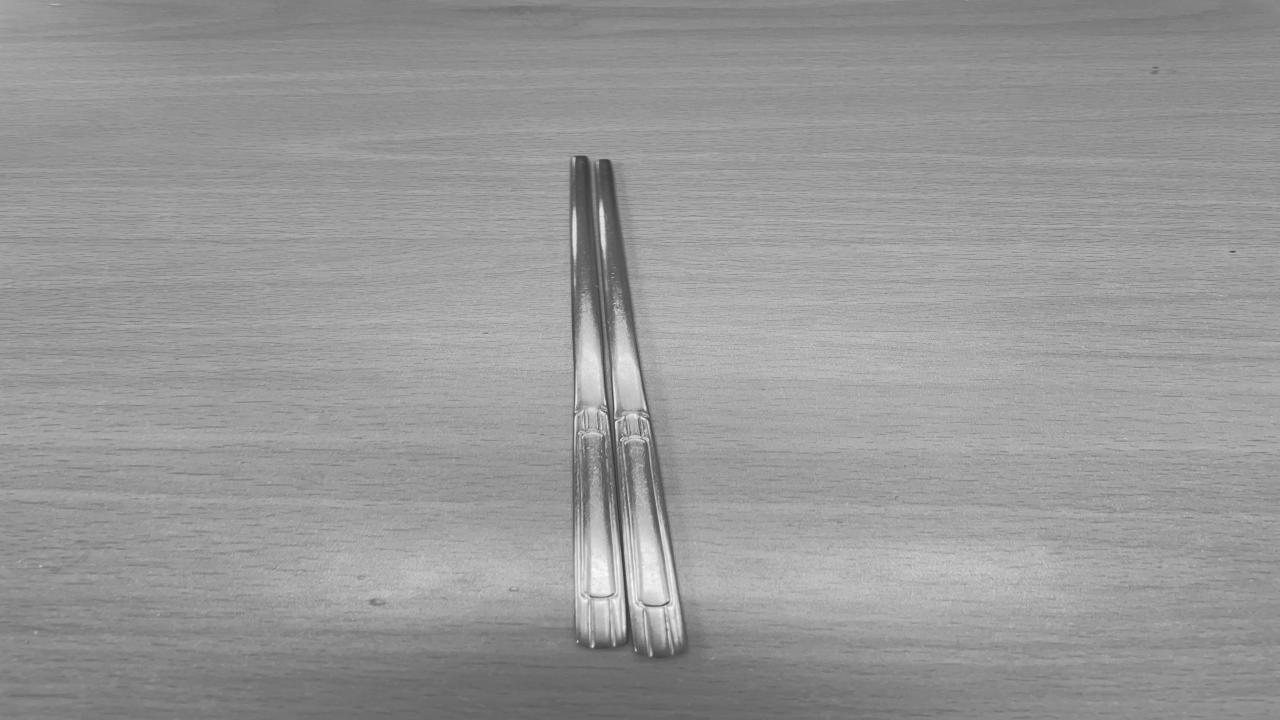chopstick: (569, 156, 686, 656)
